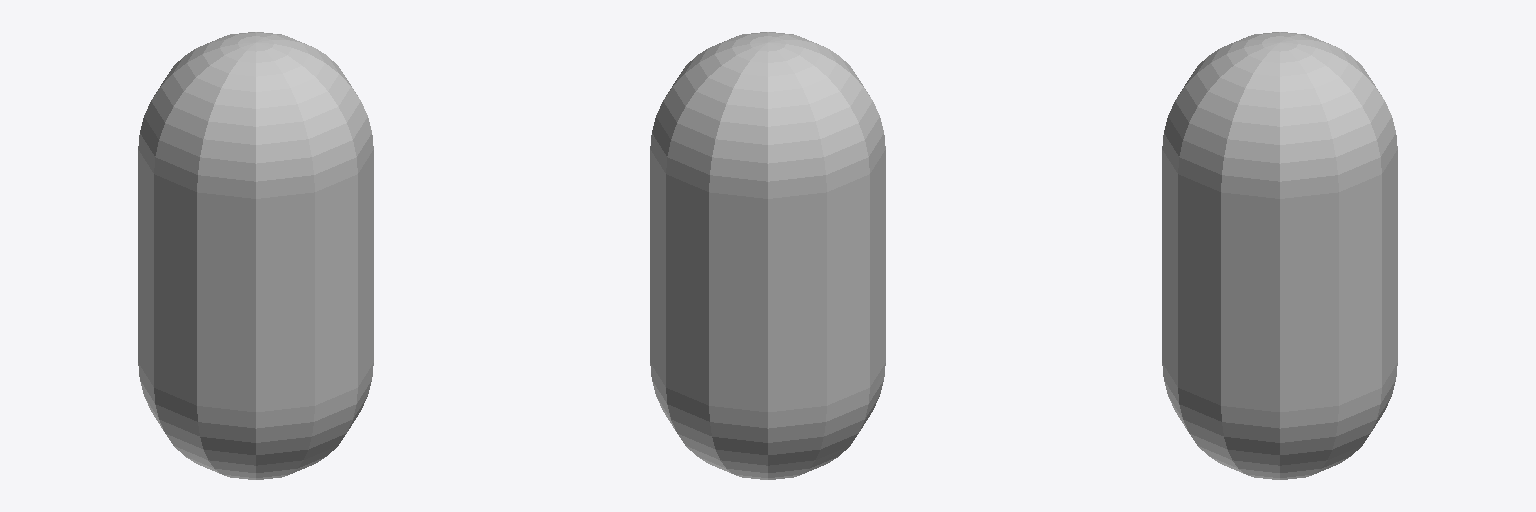
The model's file is bullet.obj.
3 views of the same model, side by side, from view 1: azimuth 30°, elevation 25°; view 2: azimuth 150°, elevation 25°; view 3: azimuth 270°, elevation 25° (orthographic).
Parts seen in each view (by area): view 1: Capsule; view 2: Capsule; view 3: Capsule.
Boxes of the visible parts, x1=… form: Capsule: x1=138, y1=32, x2=373, y2=479; Capsule: x1=650, y1=32, x2=885, y2=479; Capsule: x1=1162, y1=32, x2=1397, y2=479.
Bounding box in the file's own units: 1 × 2 × 1.